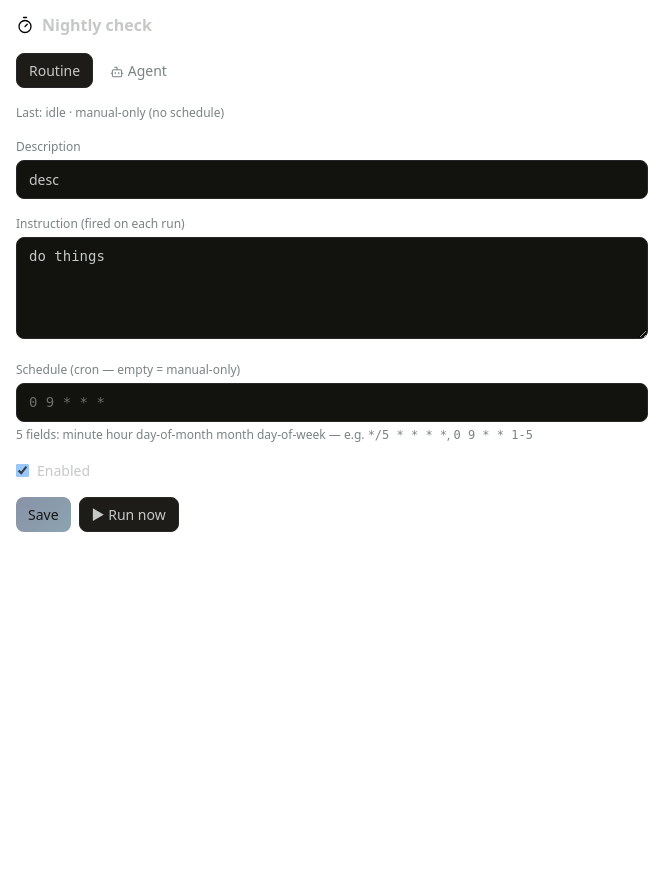
RoutineView tabs › switching back to Routine restores the config form
Click the button with test id "routine-tab-agent" at (138, 70), box [97, 53, 180, 88]
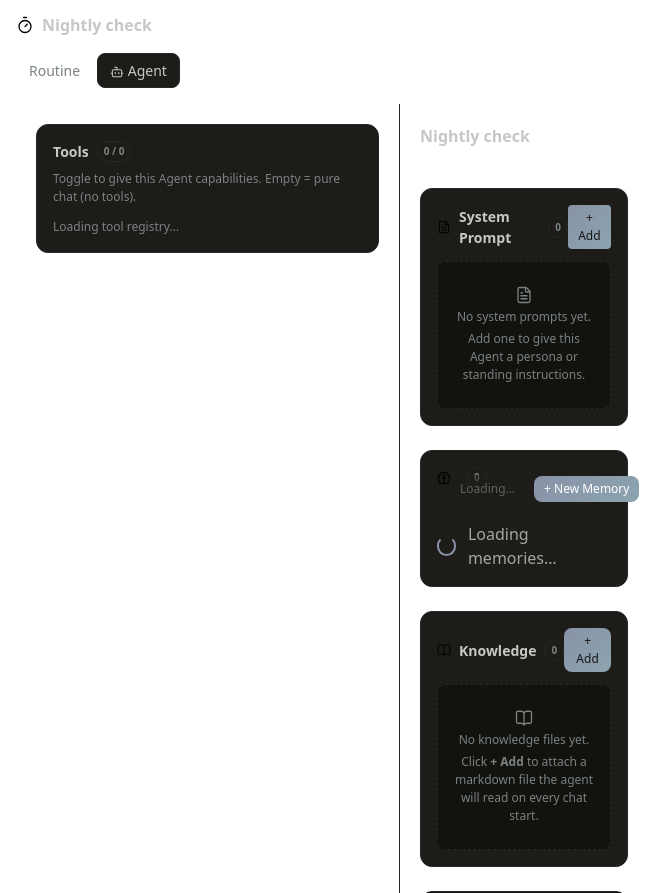
Click the button with test id "routine-tab-routine" at (54, 70), box [16, 53, 93, 88]
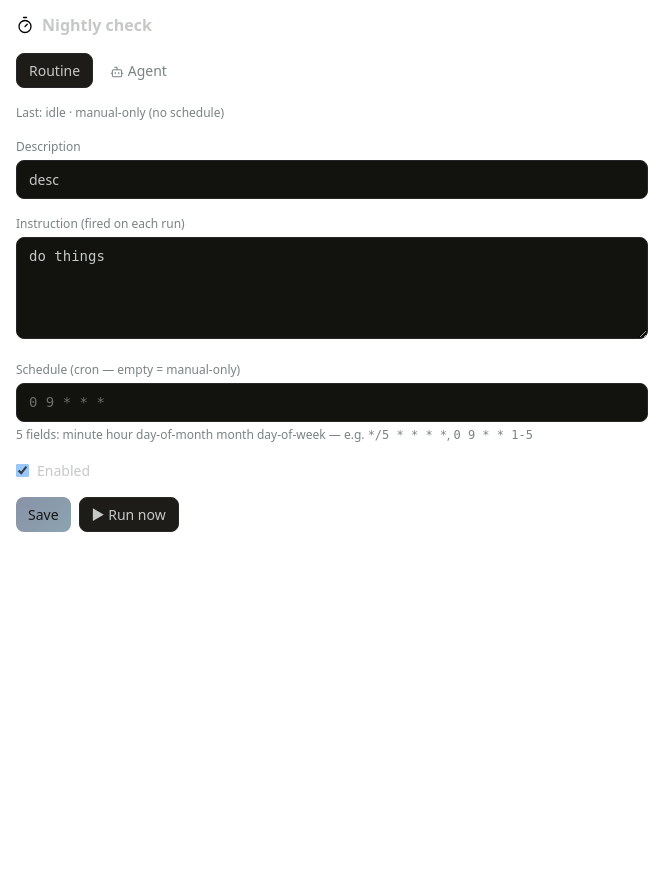
Now the field with test id "routine-description" is shown, box [16, 160, 648, 199]
